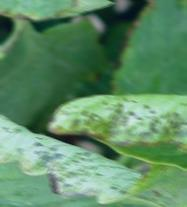Tomato leaf bacterial spot: (0, 83, 146, 207), (40, 87, 187, 175)
